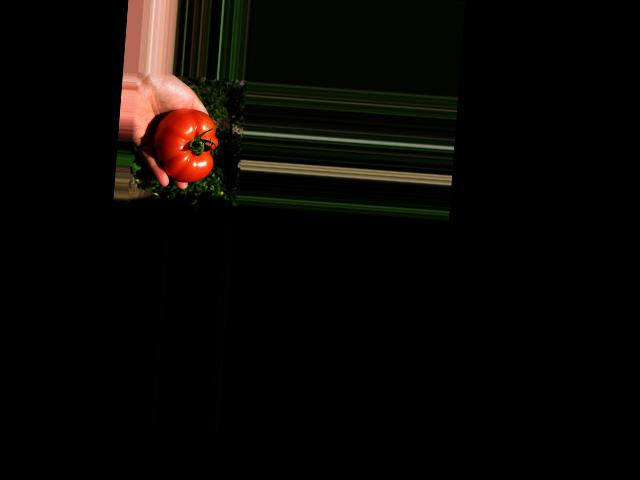tomato: (151, 107, 220, 185)
